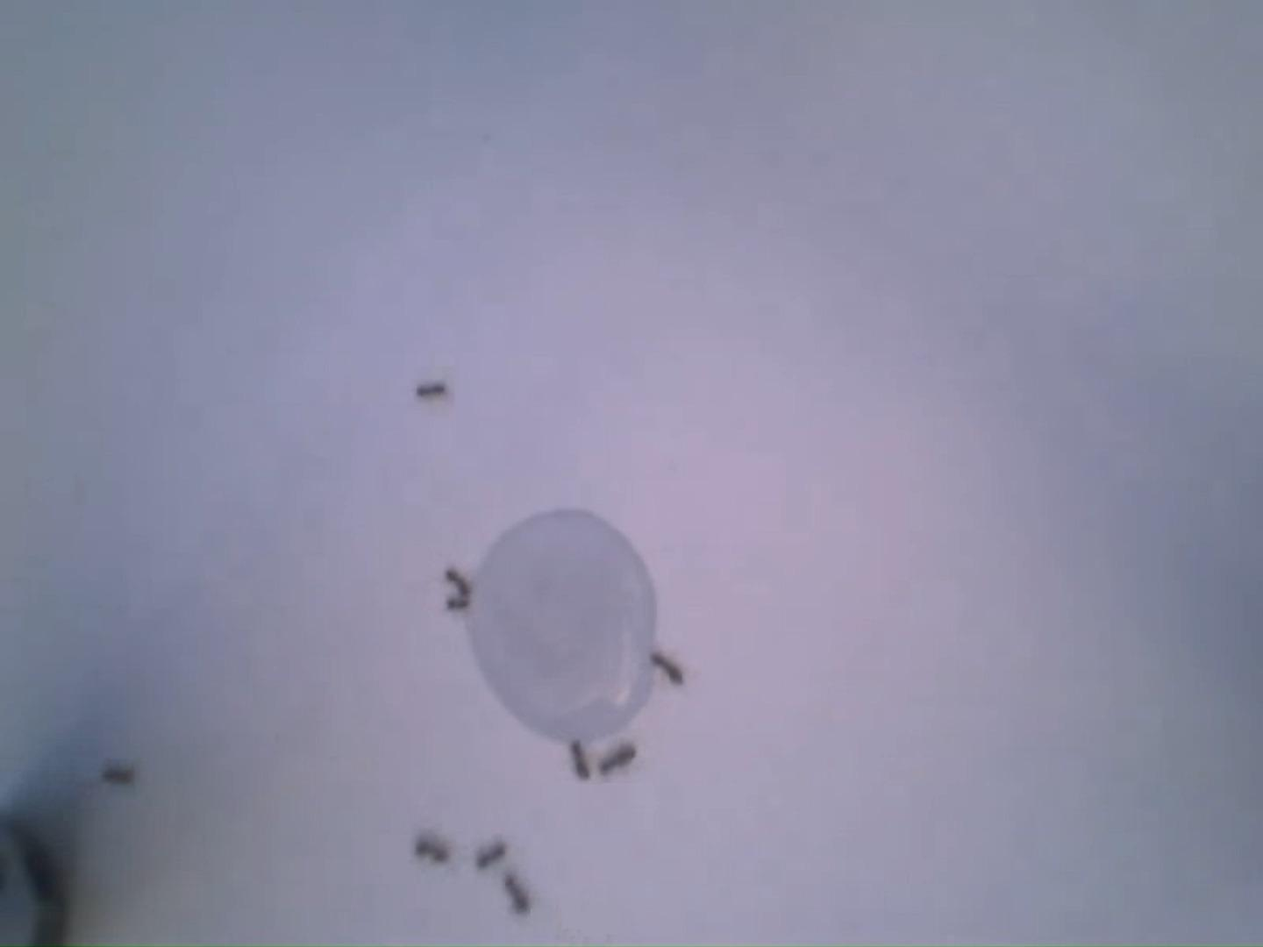Ant: (601, 741, 639, 778), (506, 871, 534, 916), (414, 833, 453, 863), (477, 839, 513, 870), (653, 650, 685, 684), (101, 761, 138, 787), (570, 740, 592, 780), (446, 566, 474, 596), (417, 380, 450, 400), (447, 594, 474, 612)
